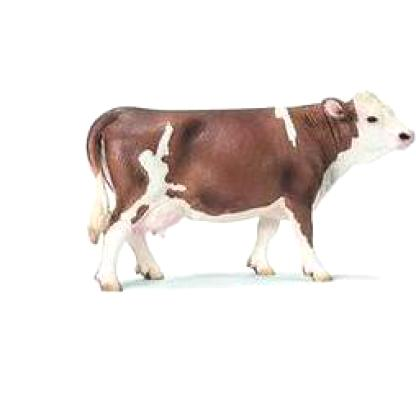cow: (80, 85, 416, 297)
